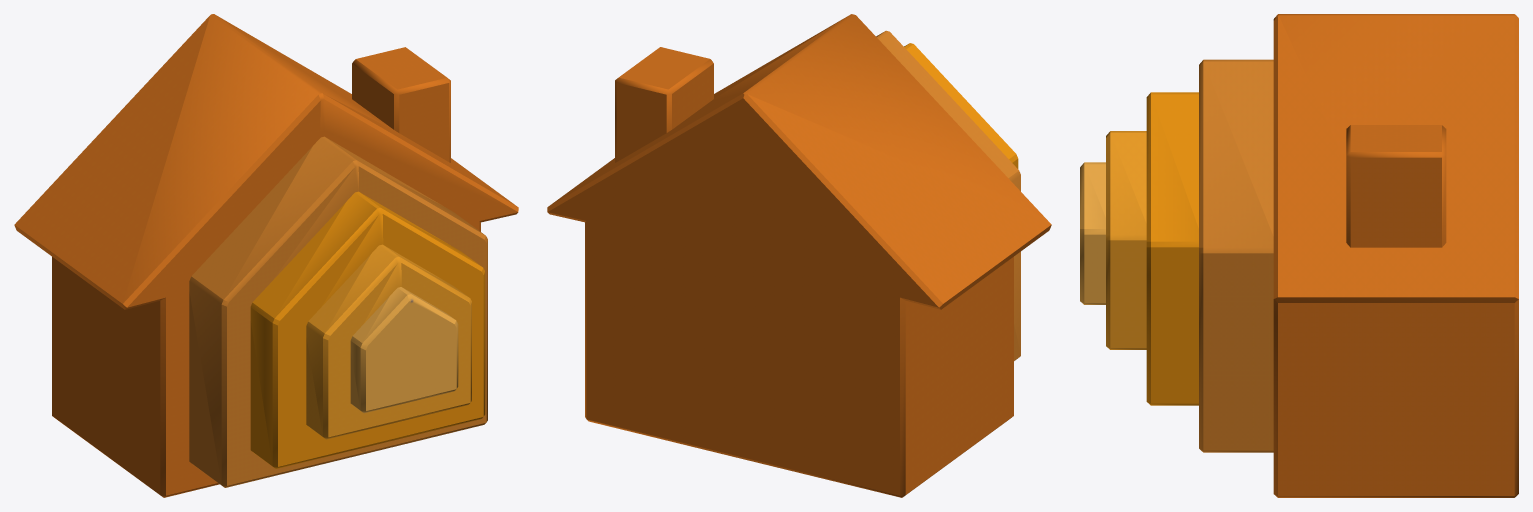
Rendered from home icom.fbx.
The picture shows the model from 3 angles, left to right: view 1: azimuth 30°, elevation 25°; view 2: azimuth 150°, elevation 25°; view 3: azimuth 270°, elevation 25°; orthographic projection. The views are drawn at different scales.
Visible parts, largest first — view 1: Home; view 2: Home; view 3: Home.
Part boxes in pixels (bbox=[...]): Home: bbox=[14, 14, 518, 497]; Home: bbox=[547, 14, 1051, 497]; Home: bbox=[1080, 14, 1518, 497].
Size of the model in its own units: 11.41 by 10.08 by 10.04.
1 material, 1 textured.
